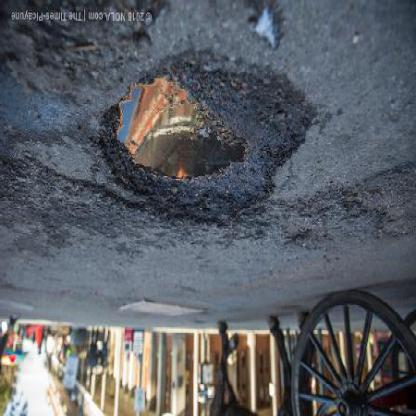pothole: (96, 54, 322, 234)
